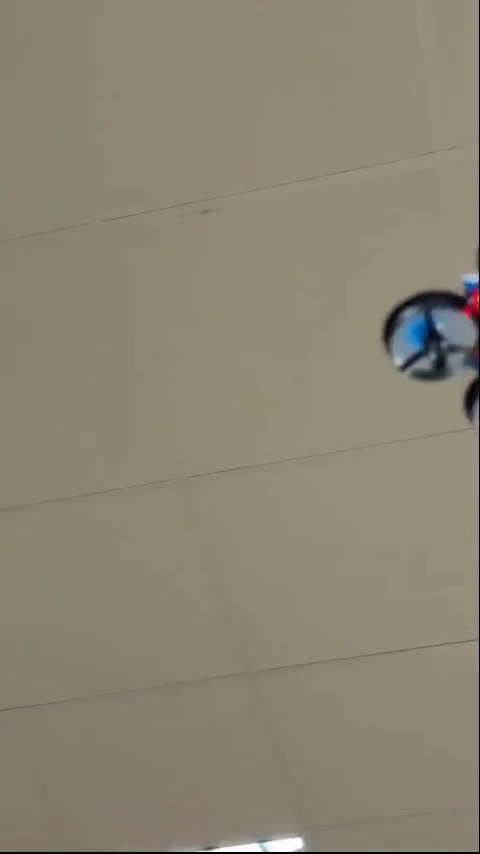drone: (385, 249, 480, 424)
